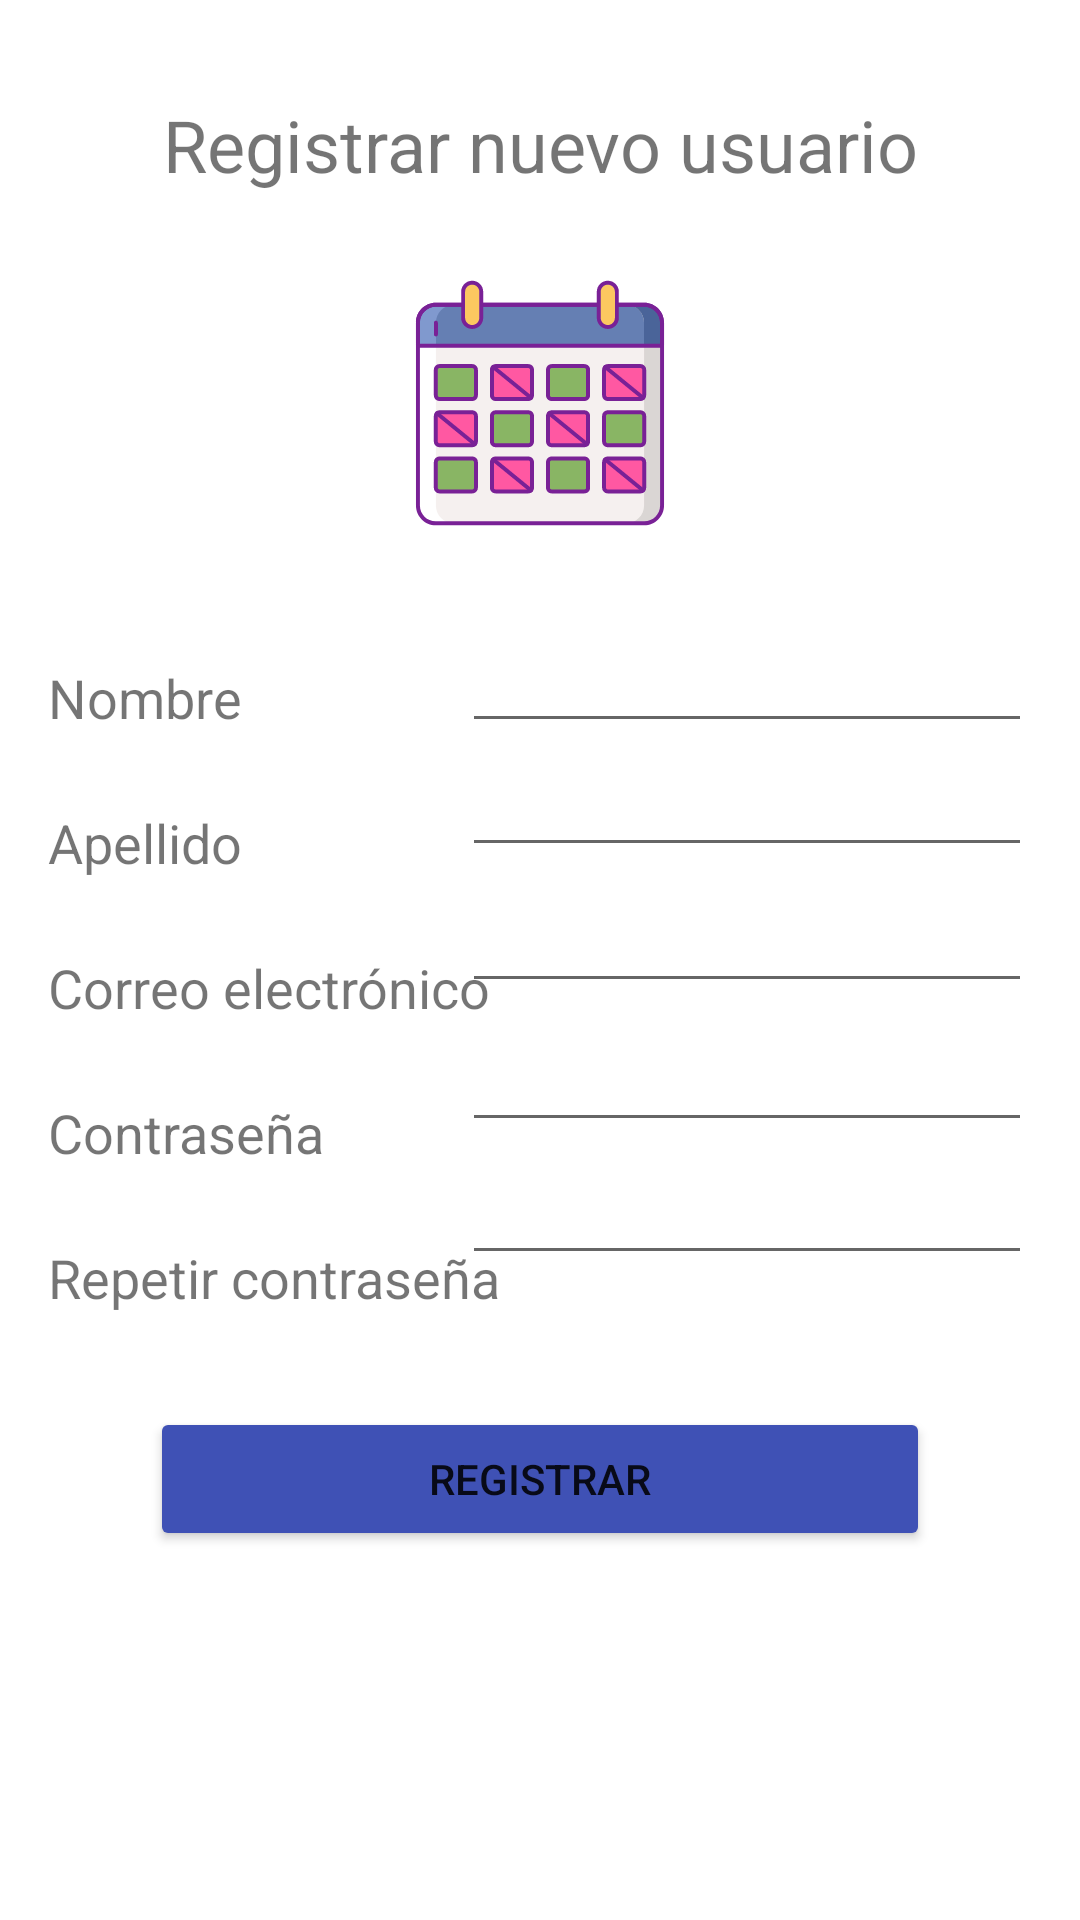

Screen size 1080px x 1920px. Icon name, then its center in pixels as (x,y):
horario: (540,403)
